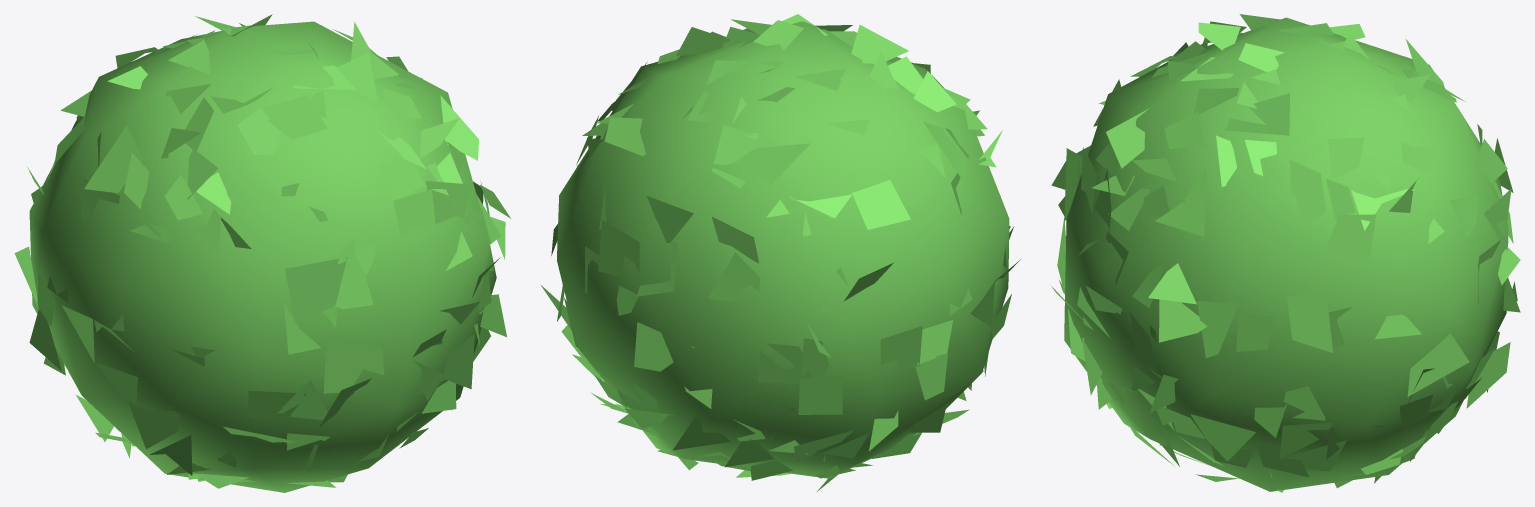
Rendered from BUSH_1.fbx.
The picture shows the model from 3 angles, left to right: view 1: azimuth 30°, elevation 25°; view 2: azimuth 150°, elevation 25°; view 3: azimuth 270°, elevation 25°; orthographic projection. The views are drawn at different scales.
Parts seen in each view (by area): view 1: Cube.014; view 2: Cube.014; view 3: Cube.014.
Part boxes in pixels (left/top/right/bottom): Cube.014: left=14, top=14, right=510, bottom=492; Cube.014: left=541, top=14, right=1020, bottom=491; Cube.014: left=1051, top=14, right=1520, bottom=492.
Size of the model in its own units: 172 by 174 by 173.
